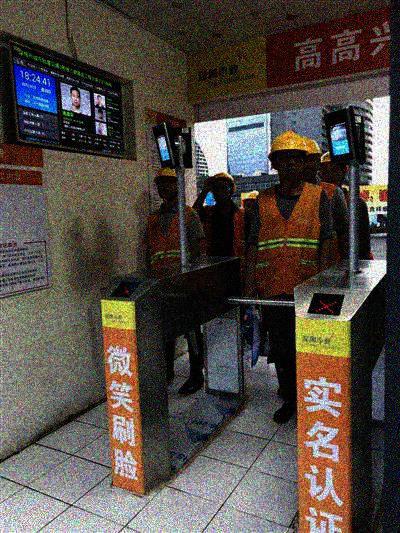helmet: (267, 130, 309, 180), (319, 150, 351, 186), (153, 164, 184, 200), (300, 135, 324, 178), (208, 170, 236, 203), (242, 189, 261, 214)
